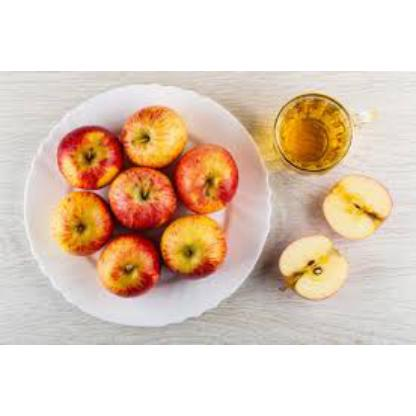apple: (318, 171, 396, 237), (277, 232, 347, 300), (157, 210, 230, 272), (110, 166, 180, 230), (179, 136, 239, 210), (102, 234, 166, 300), (48, 188, 110, 250), (124, 99, 184, 163), (57, 127, 119, 179)
